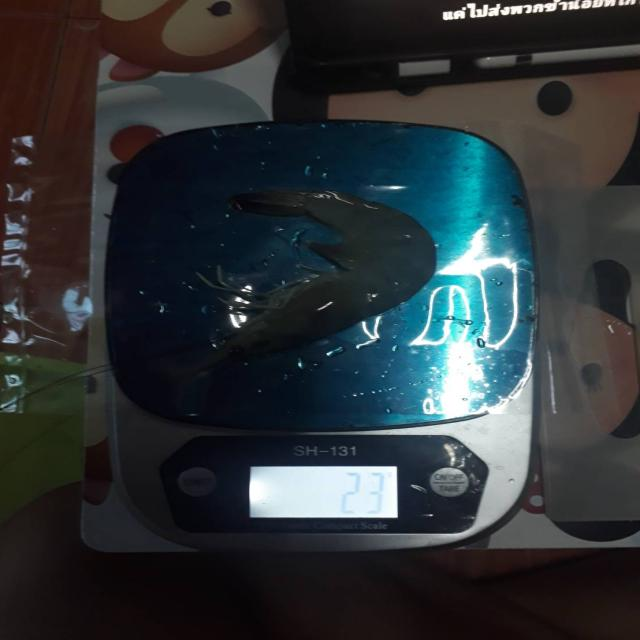2: (340, 471, 361, 515)
3: (366, 470, 386, 515)
screen: (250, 466, 398, 518)
